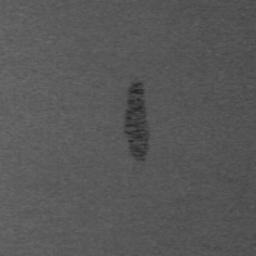Secondary rust skin: (124, 79, 149, 163)
